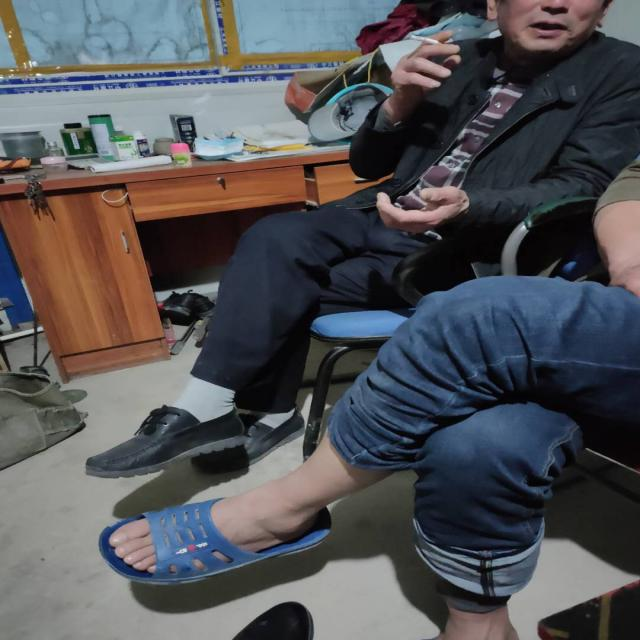smoke: (401, 34, 460, 58)
